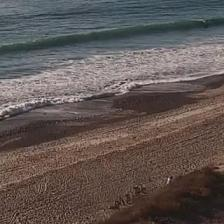surfer: (205, 20, 208, 23)
